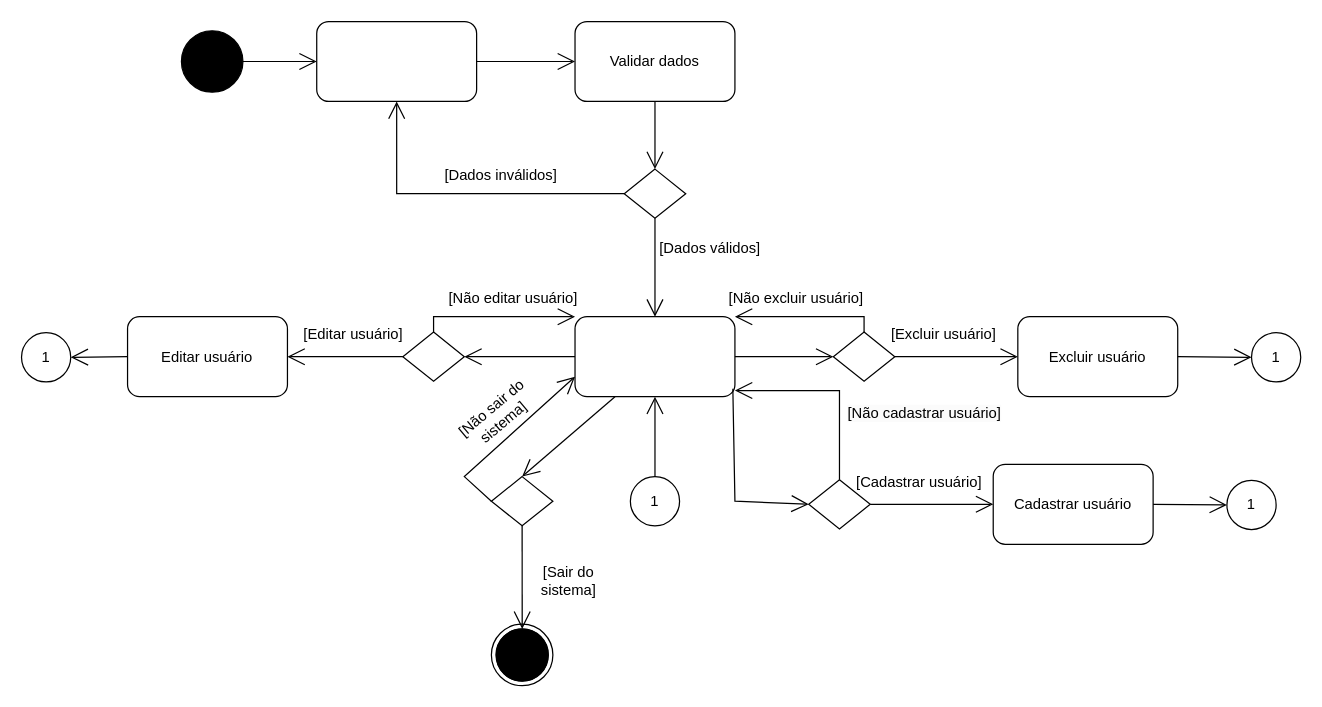
Image size: 1322x707. Some labels were removed from this diagram. Here are the shapes that lost their labels. From the top down, the centre of each, then its label:
At point (396, 60): "Receber dados".
At point (654, 356): "Listar usuários".
